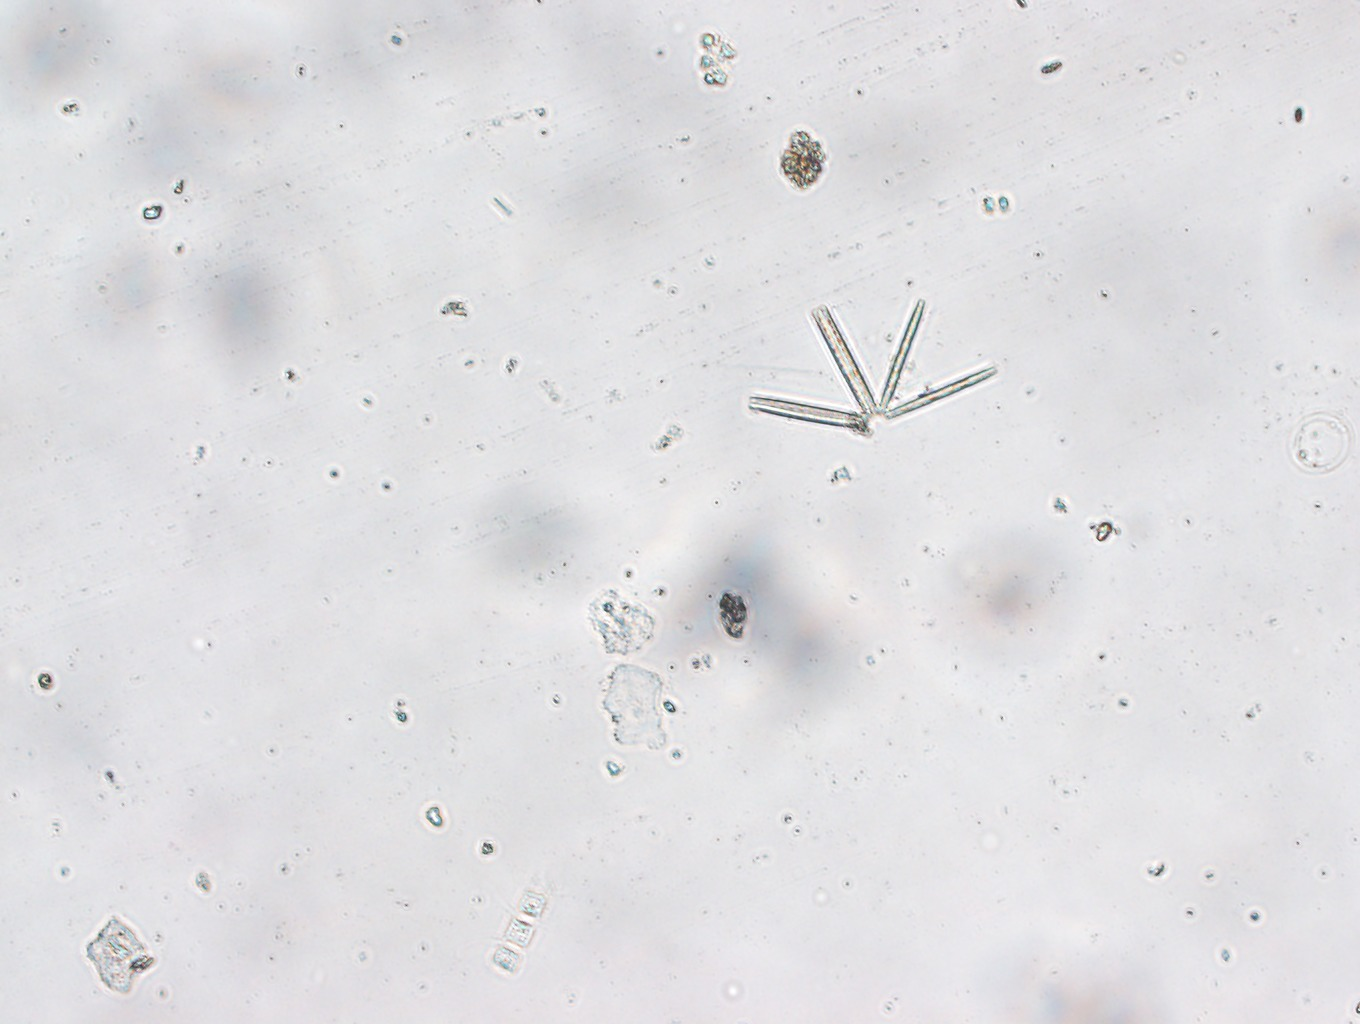thalassionema nitzschioides: (749, 297, 1000, 431)
